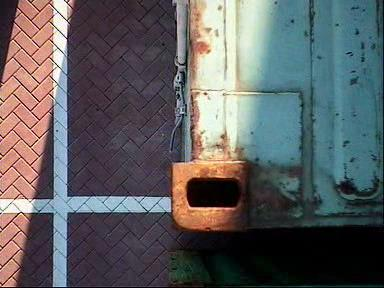groundmarker_2: (1, 95, 94, 256)
